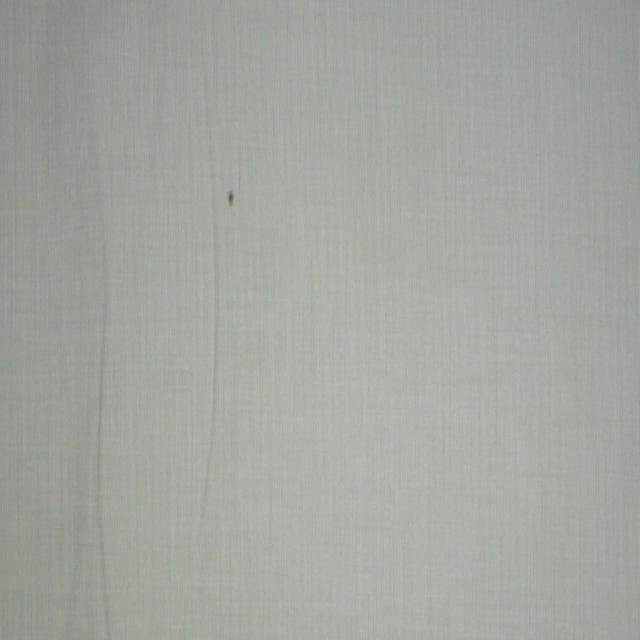dirty: (227, 191, 234, 205)
